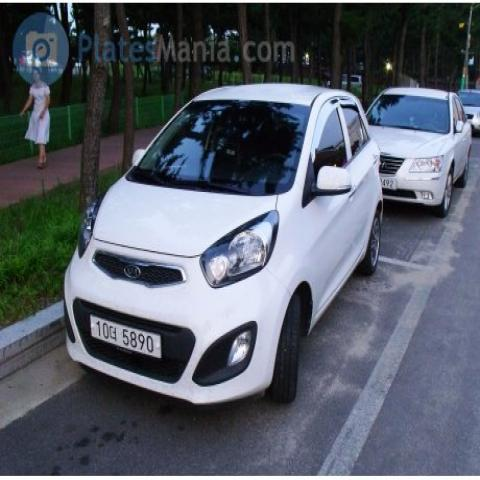LP: (86, 303, 164, 368)
